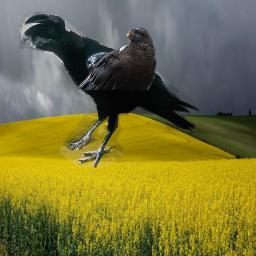Crow: (19, 12, 199, 168), (76, 26, 158, 90)
